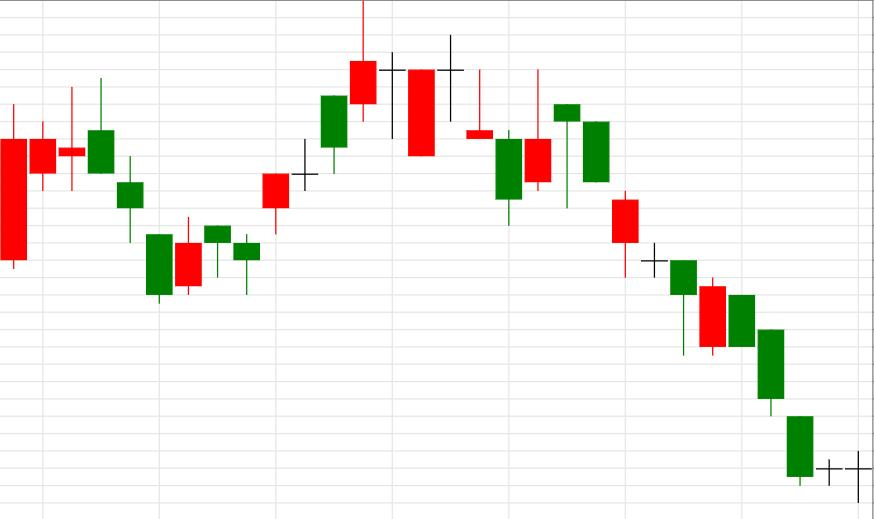hammer_rise: (554, 104, 696, 355)
shooting_star_fall: (234, 0, 376, 295)
